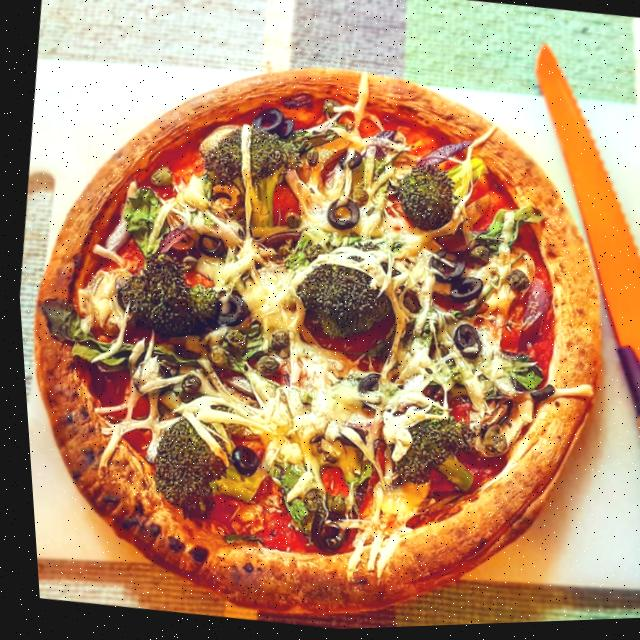basil: (28, 296, 114, 366), (467, 202, 544, 265), (113, 185, 172, 261), (401, 308, 447, 365), (326, 233, 402, 261), (278, 234, 327, 277), (500, 357, 542, 399), (89, 340, 130, 375), (367, 140, 410, 172), (216, 346, 252, 376), (271, 465, 296, 497), (150, 354, 176, 382), (277, 499, 302, 522), (372, 375, 395, 397)
black_olives: (300, 515, 340, 557), (211, 291, 250, 332), (249, 107, 294, 142), (422, 251, 464, 288), (320, 198, 359, 235), (446, 324, 480, 363), (222, 445, 256, 480), (443, 278, 481, 309), (192, 234, 224, 261), (396, 292, 419, 317)
pizza: (2, 25, 640, 640)
